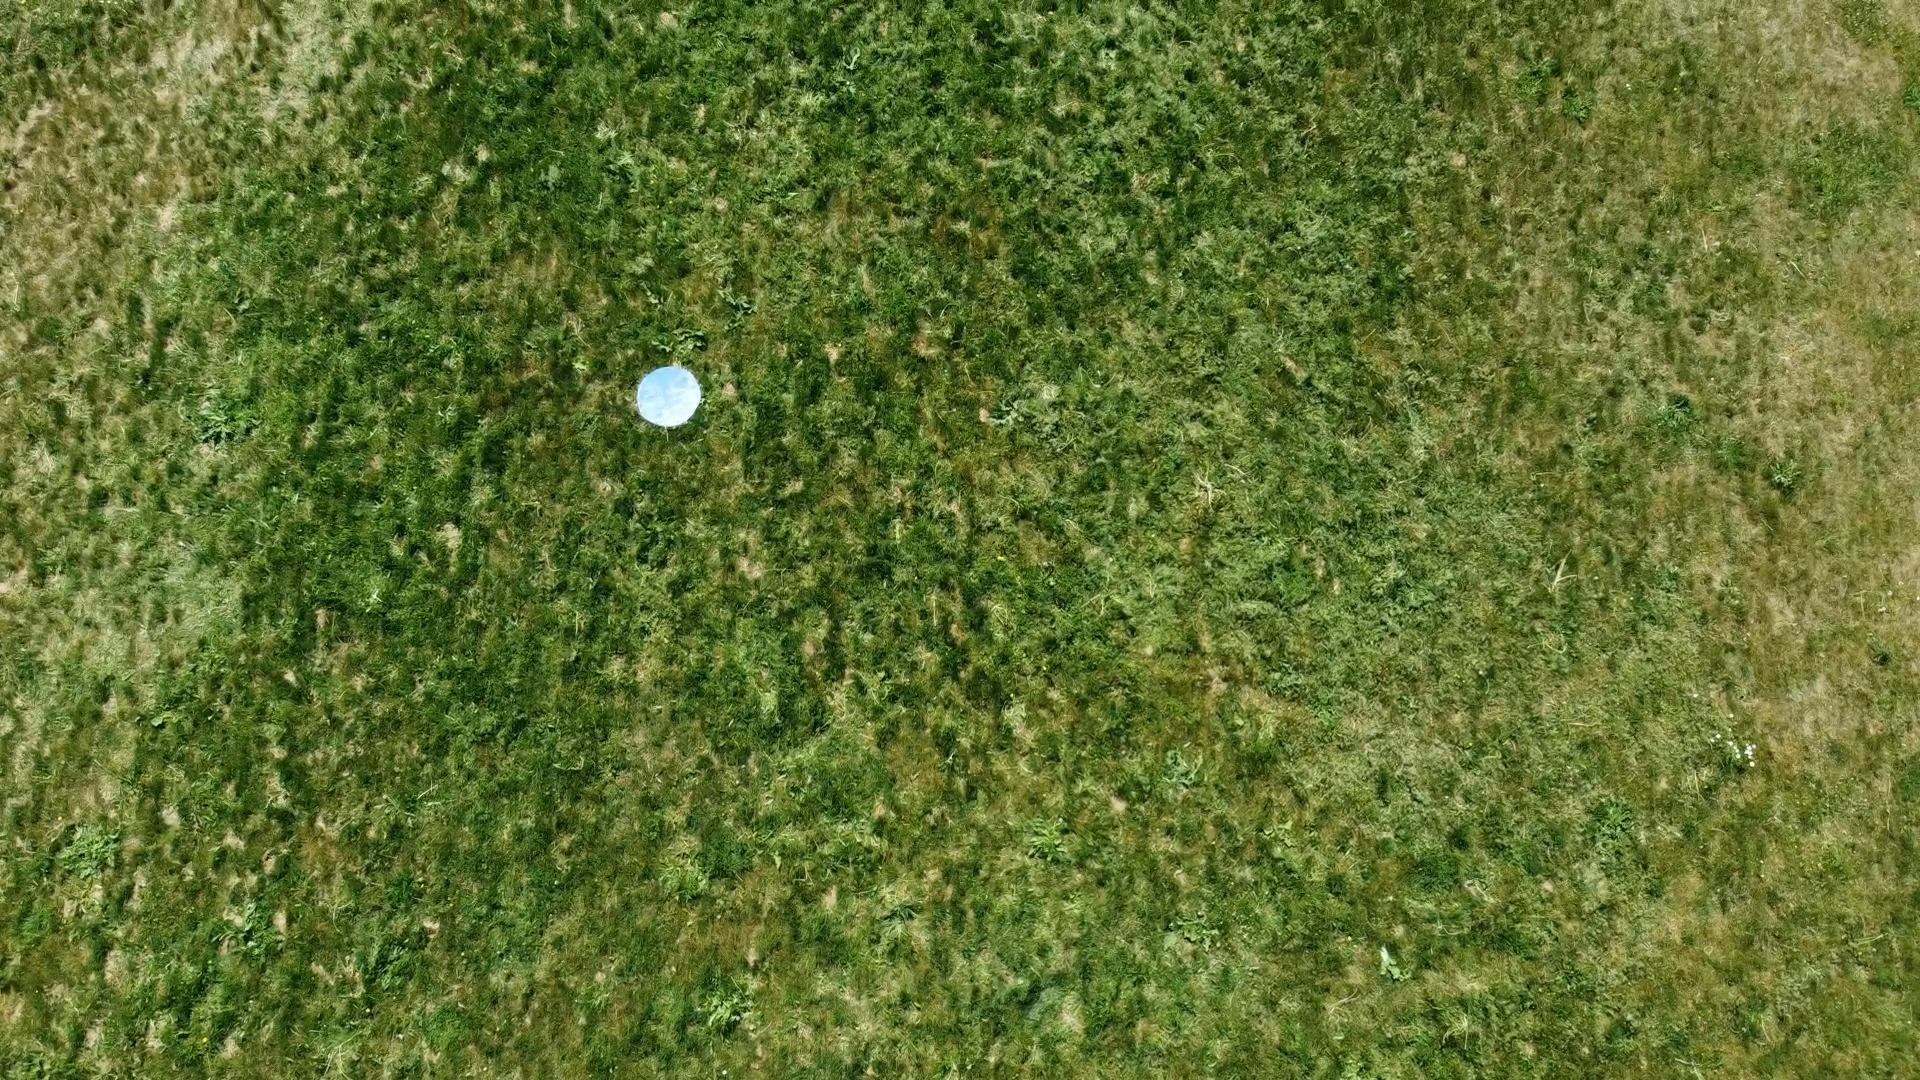Blue: (634, 363, 704, 429)
